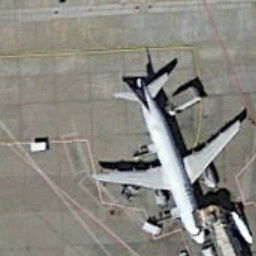Airplane: (86, 66, 249, 254)
